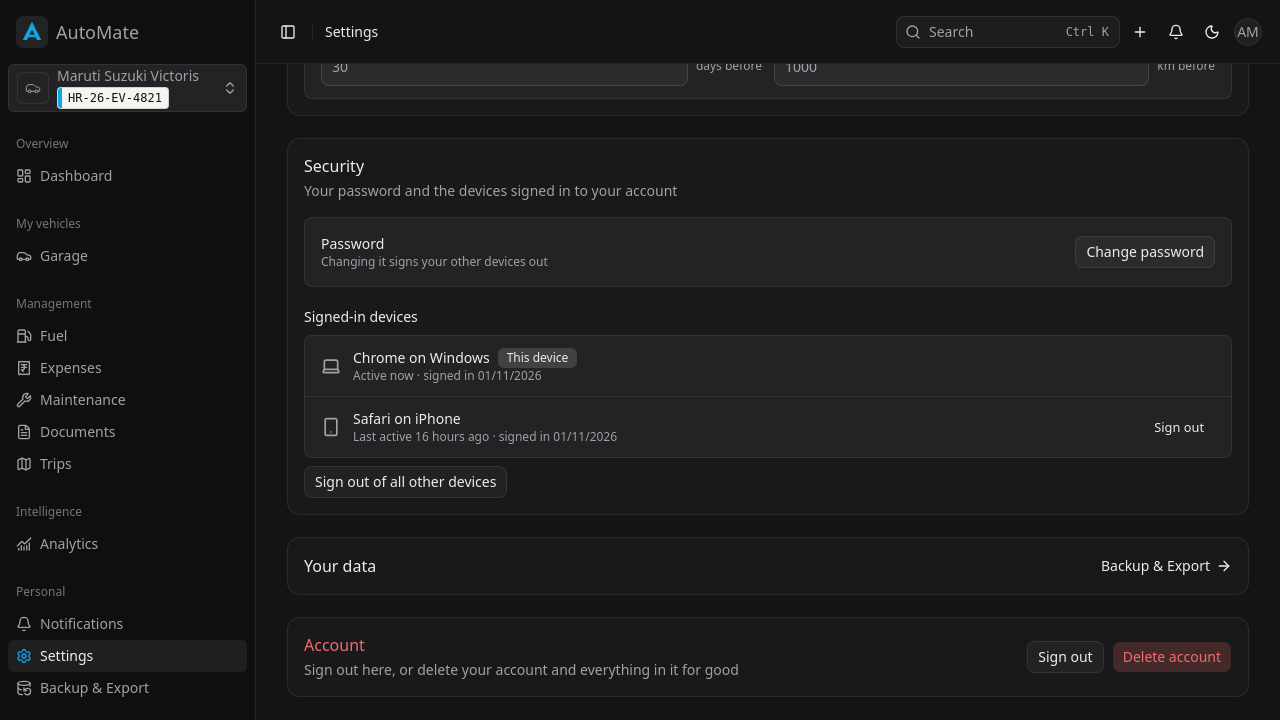
Test case: settings › deletes the account only with the password and DELETE, then signs out
The width and height of the screenshot is (1280, 720).
Later steps or results of the test are not shown.
(page scrolled)
Click the button "Delete account". click: [1172, 657]
box: top-left (1112, 641), bottom-right (1232, 673)
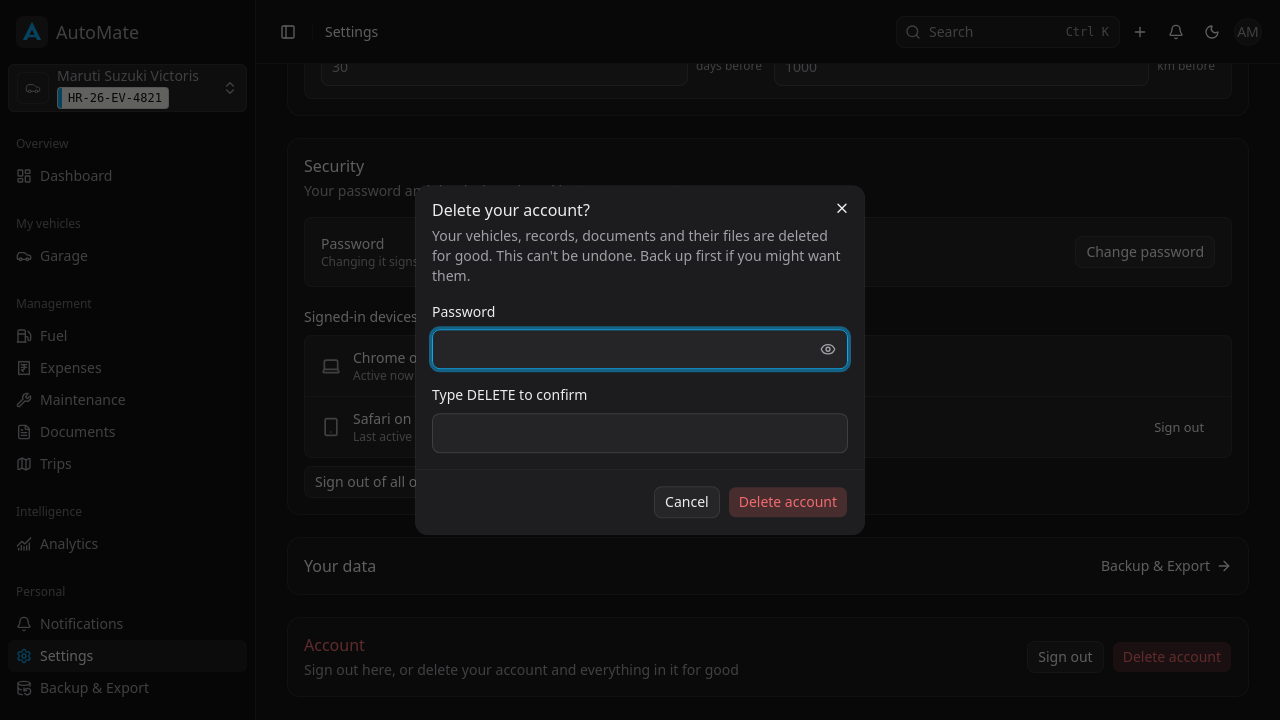
Type "Drive2026safe" into the password field labelled "Password". click: [622, 350]
box: top-left (433, 334), bottom-right (812, 366)
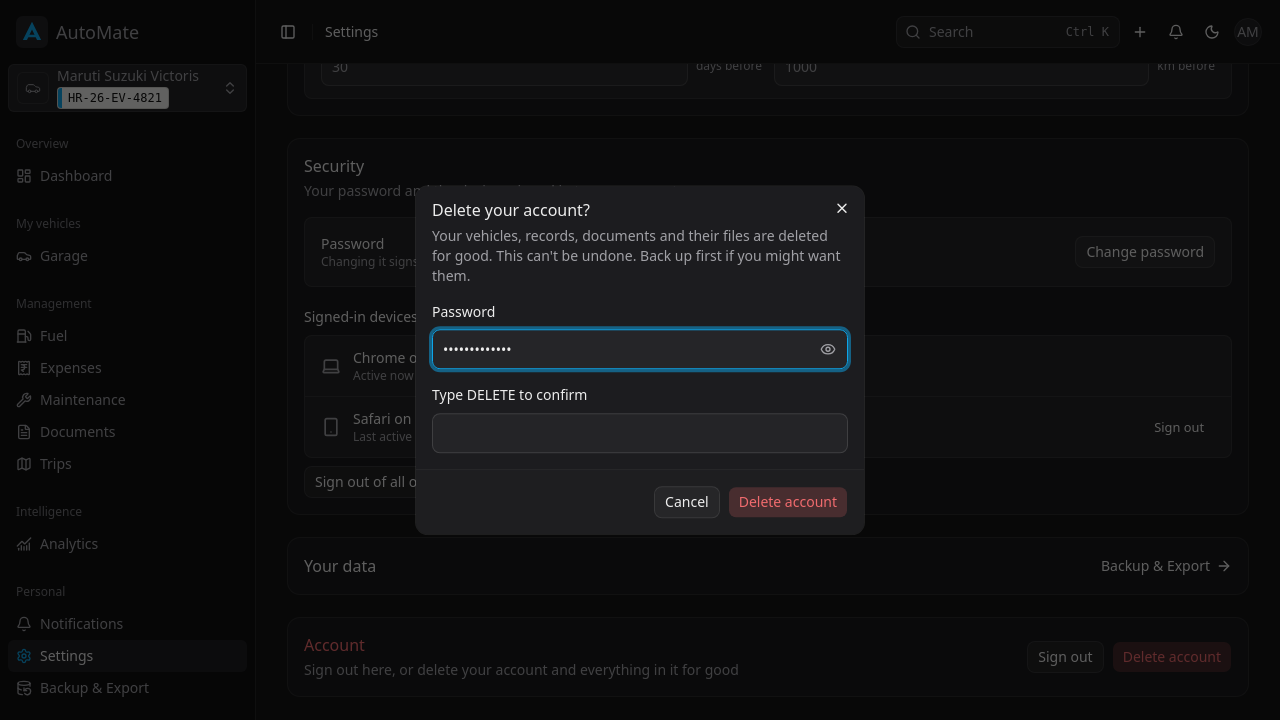
Type "delete" into the field labelled "Type DELETE to confirm". click: [640, 433]
box: top-left (432, 413), bottom-right (848, 453)
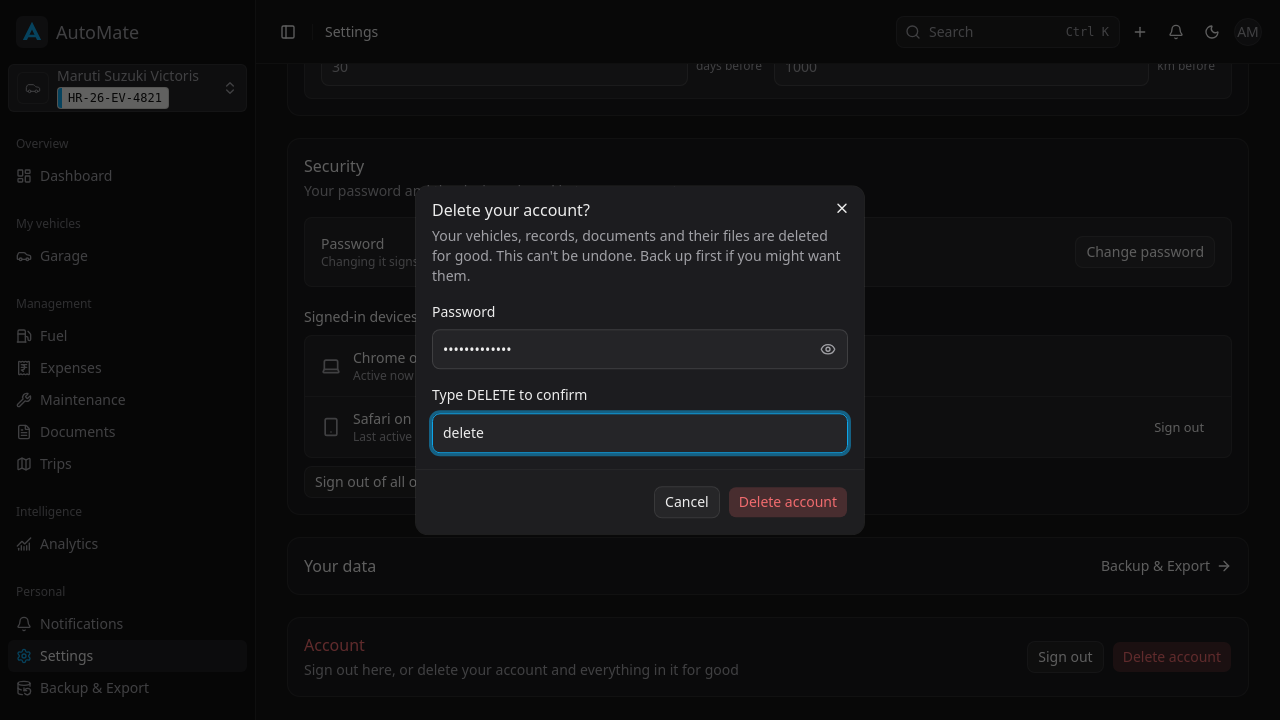
Click the button "Delete account". click: [788, 502]
box: top-left (728, 486), bottom-right (848, 518)
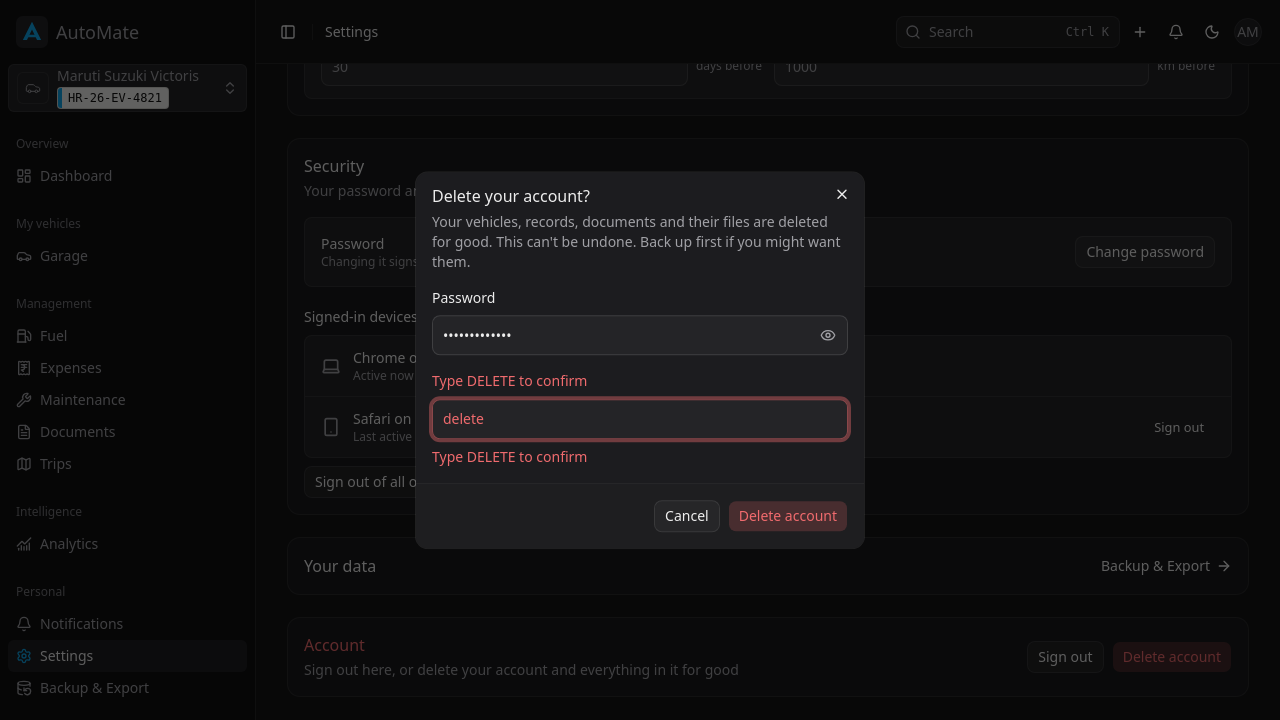
Now the field labelled "Type DELETE to confirm" is marked as invalid, box top-left (432, 399), bottom-right (848, 439)
